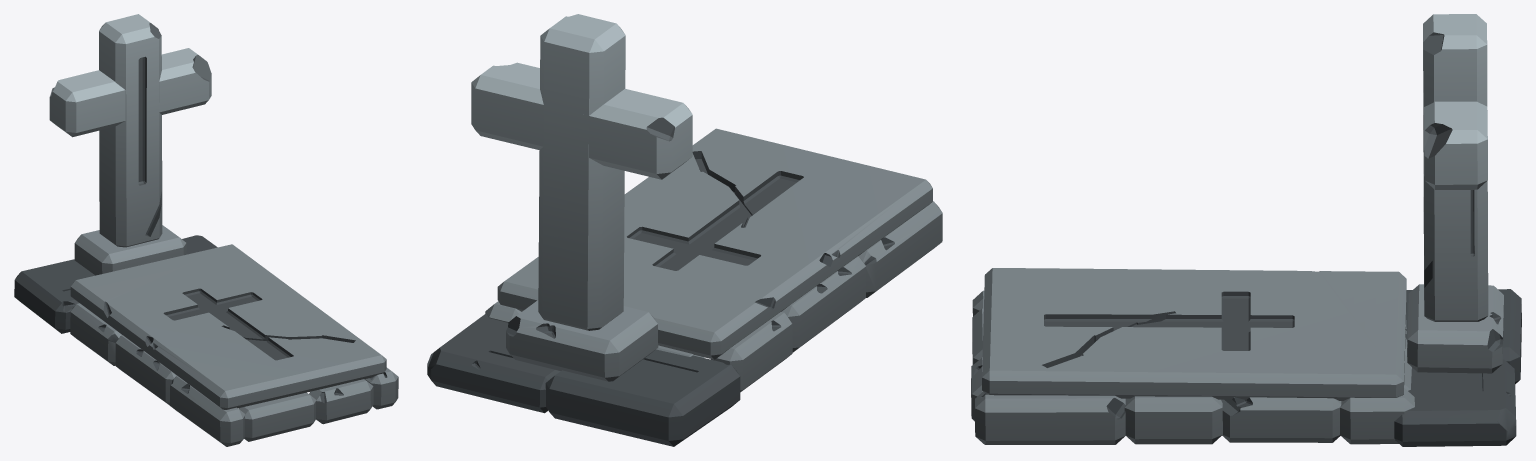
File: grave_cross.glb
3 renders of one model, left to right at view 1: azimuth 30°, elevation 25°; view 2: azimuth 150°, elevation 25°; view 3: azimuth 270°, elevation 25°, orthographic. The views are drawn at different scales.
Visible parts, largest first — view 1: grave_cross; view 2: grave_cross; view 3: grave_cross.
Part boxes in pixels (x1,y1,x2,y2): grave_cross: [14, 14, 398, 446]; grave_cross: [427, 14, 942, 446]; grave_cross: [971, 14, 1521, 446].
Bounding box in the file's own units: 1.41 × 1.92 × 2.64.
Materials: 1 (1 with a texture image).
